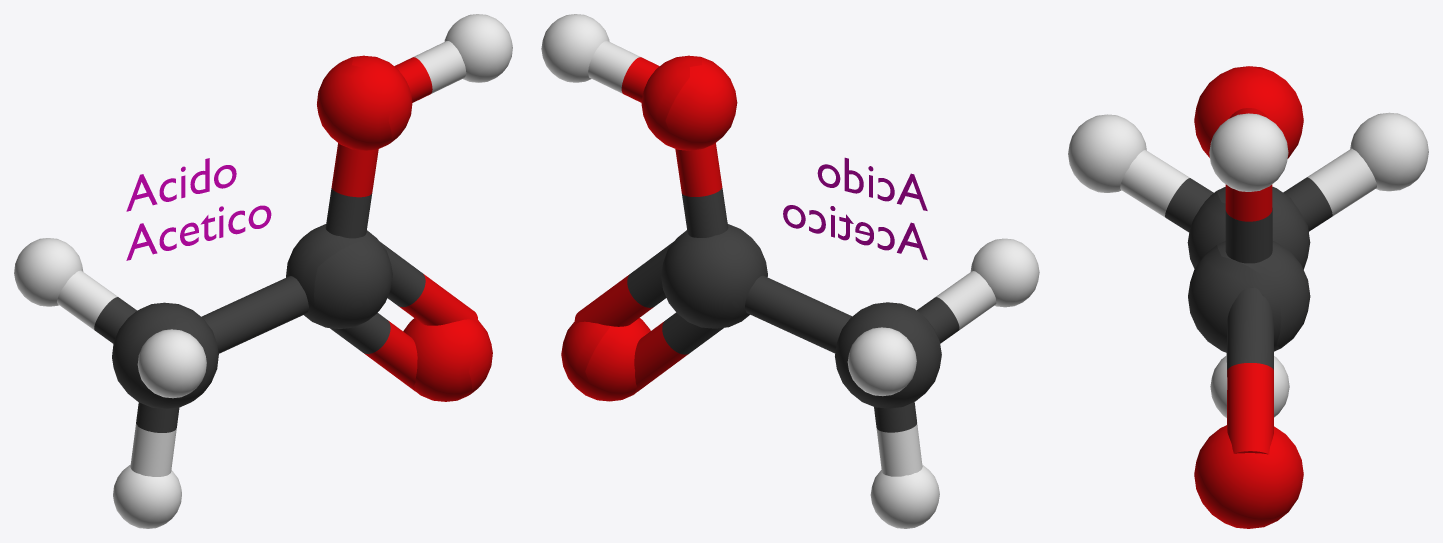
The model's file is acido acetico.glb.
3 views of the same model, side by side, from view 1: azimuth 30°, elevation 25°; view 2: azimuth 150°, elevation 25°; view 3: azimuth 270°, elevation 25° (orthographic). The views are drawn at different scales.
Parts seen in each view (by area): view 1: Shape_IndexedFaceSet.012, Shape_IndexedFaceSet.027, Shape_IndexedFaceSet.007, Text; view 2: Shape_IndexedFaceSet.012, Shape_IndexedFaceSet.027, Shape_IndexedFaceSet.007, Text; view 3: Shape_IndexedFaceSet.007, Shape_IndexedFaceSet.012, Shape_IndexedFaceSet.027.
Part boxes in pixels (left/top/right/bottom): Shape_IndexedFaceSet.012: left=94, top=188, right=425, bottom=432; Shape_IndexedFaceSet.027: left=317, top=55, right=492, bottom=401; Shape_IndexedFaceSet.007: left=14, top=14, right=512, bottom=528; Text: left=126, top=158, right=271, bottom=260; Shape_IndexedFaceSet.012: left=627, top=188, right=959, bottom=432; Shape_IndexedFaceSet.027: left=561, top=55, right=737, bottom=401; Shape_IndexedFaceSet.007: left=541, top=14, right=1039, bottom=528; Text: left=783, top=157, right=927, bottom=260; Shape_IndexedFaceSet.007: left=1068, top=112, right=1428, bottom=417; Shape_IndexedFaceSet.012: left=1165, top=177, right=1332, bottom=376; Shape_IndexedFaceSet.027: left=1194, top=66, right=1303, bottom=528.
Bounding box in the file's own units: 36.06 × 34.5 × 23.03.
